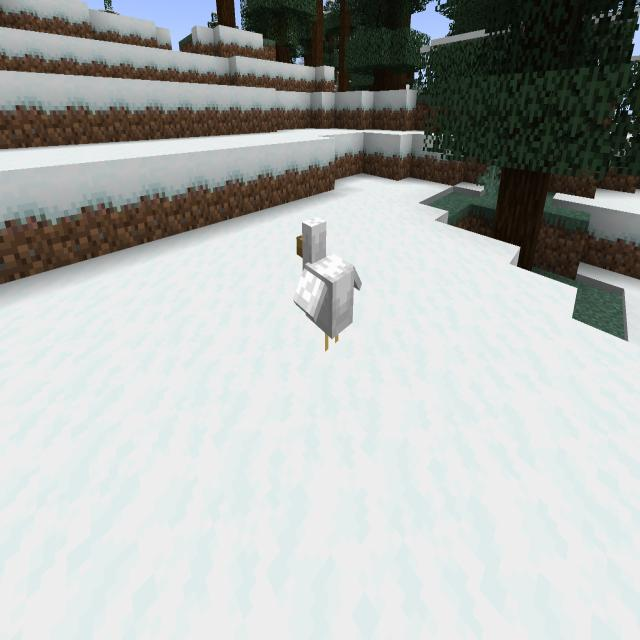chicken: (286, 207, 368, 363)
